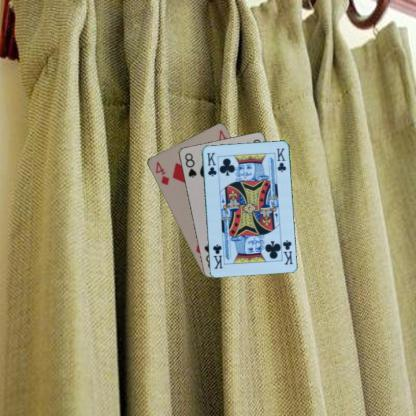4d: (152, 158, 170, 187)
8s: (182, 150, 198, 179)
Kc: (280, 237, 294, 266), (205, 150, 217, 177)
